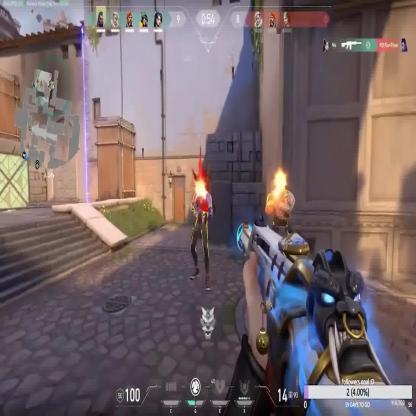enemy: (266, 172, 295, 297)
enemy_head: (275, 171, 285, 191)
